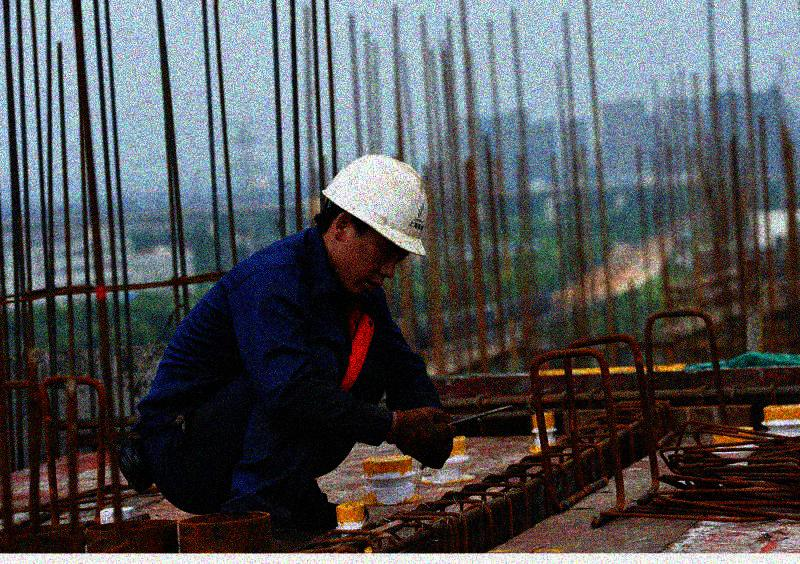helmet: (312, 150, 431, 292)
